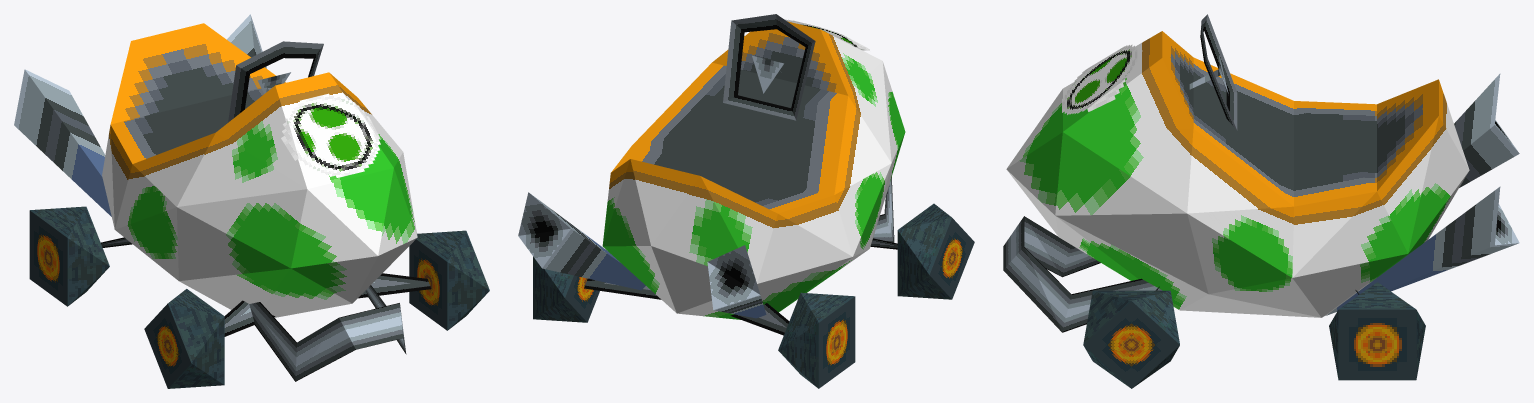
Rendered from kart_YS_b.glb.
3 views of the same model, side by side, from view 1: azimuth 30°, elevation 25°; view 2: azimuth 150°, elevation 25°; view 3: azimuth 270°, elevation 25° (orthographic). The views are drawn at different scales.
Visible parts, largest first — view 1: kart_YS_b; view 2: kart_YS_b; view 3: kart_YS_b.
Boxes of the visible parts, <box> form: kart_YS_b: <box>14,14,489,388</box>; kart_YS_b: <box>518,14,974,388</box>; kart_YS_b: <box>1003,14,1519,388</box>.
Size of the model in its own units: 0.7202 by 0.6599 by 1.05.
Materials: 3 (3 with a texture image).
